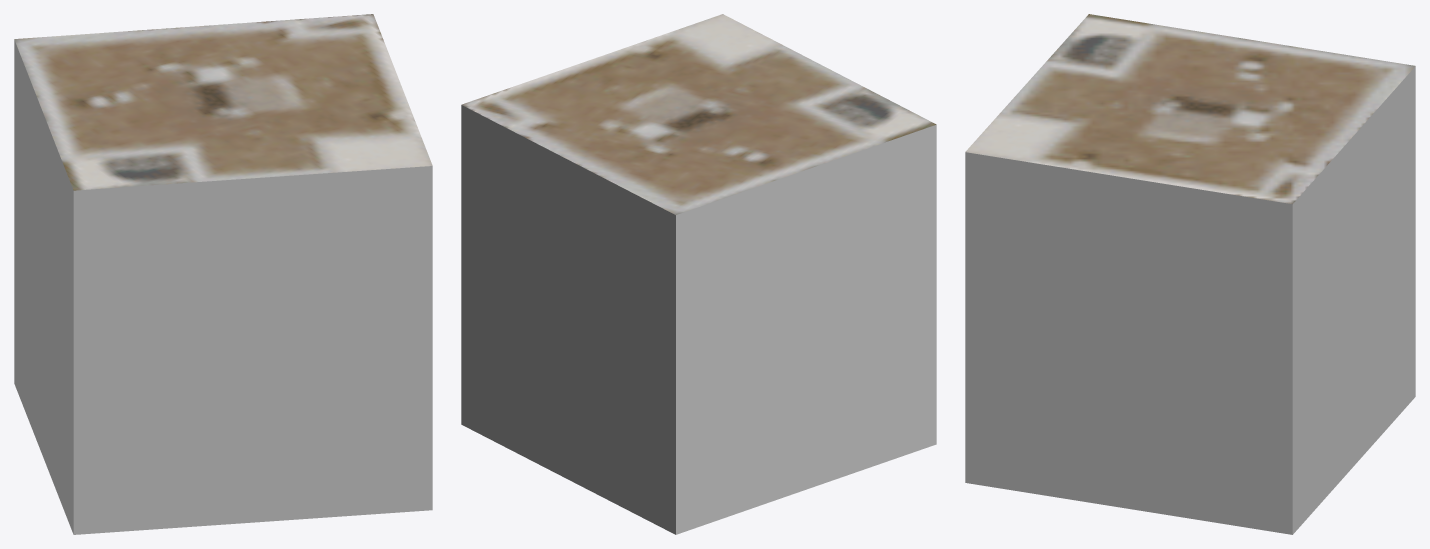
File: DEBW_0010007Txfz.gltf
3 views of the same model, side by side, from view 1: azimuth 30°, elevation 25°; view 2: azimuth 150°, elevation 25°; view 3: azimuth 270°, elevation 25° (orthographic). The views are drawn at different scales.
Parts seen in each view (by area): view 1: Z_UP; view 2: Z_UP; view 3: Z_UP.
Boxes of the visible parts, bbox=[...] form: Z_UP: bbox=[14, 14, 432, 534]; Z_UP: bbox=[461, 14, 936, 534]; Z_UP: bbox=[965, 14, 1415, 534].
Size of the model in its own units: 19.35 by 15.69 by 19.37.
2 materials, 1 textured.
